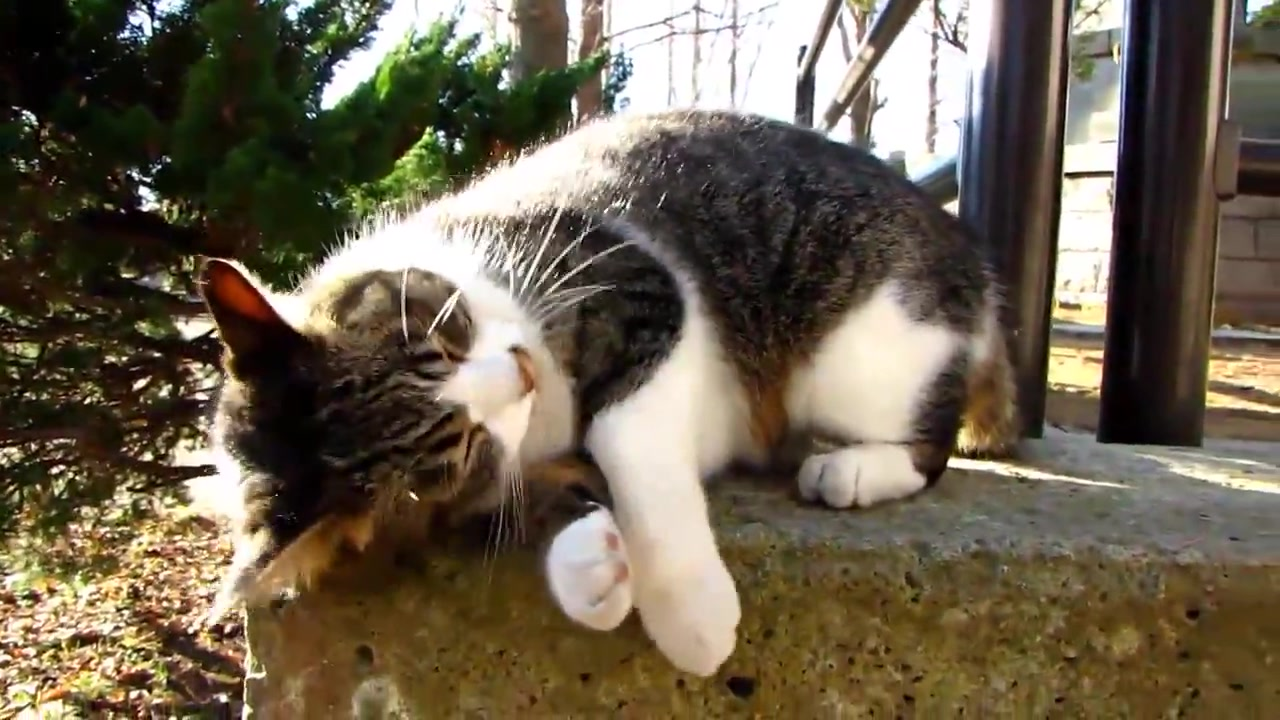cat: (198, 106, 1009, 686)
